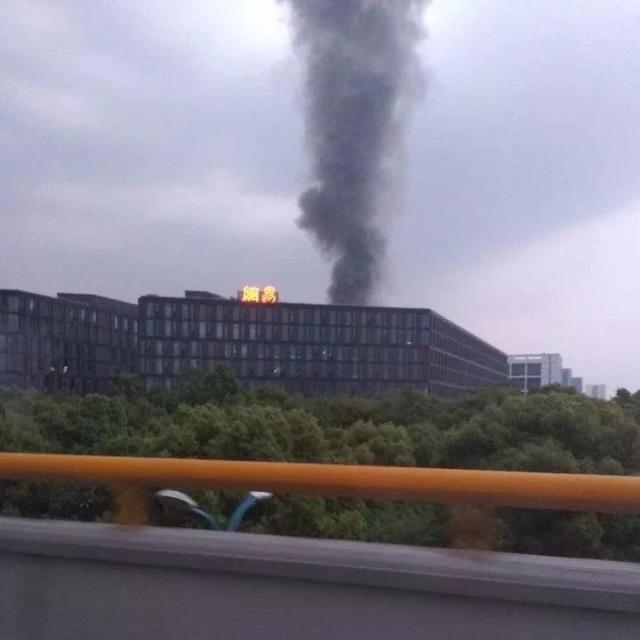Smoke: (298, 0, 436, 305)
